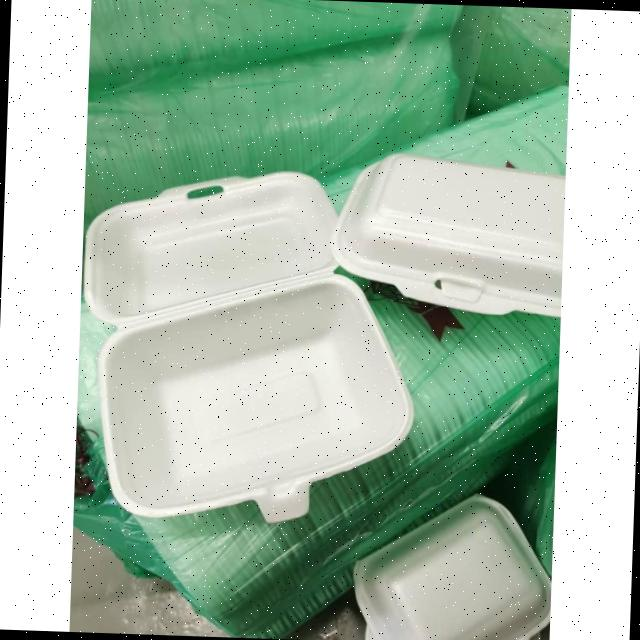styrofoam: (74, 161, 423, 529), (349, 487, 554, 640)
